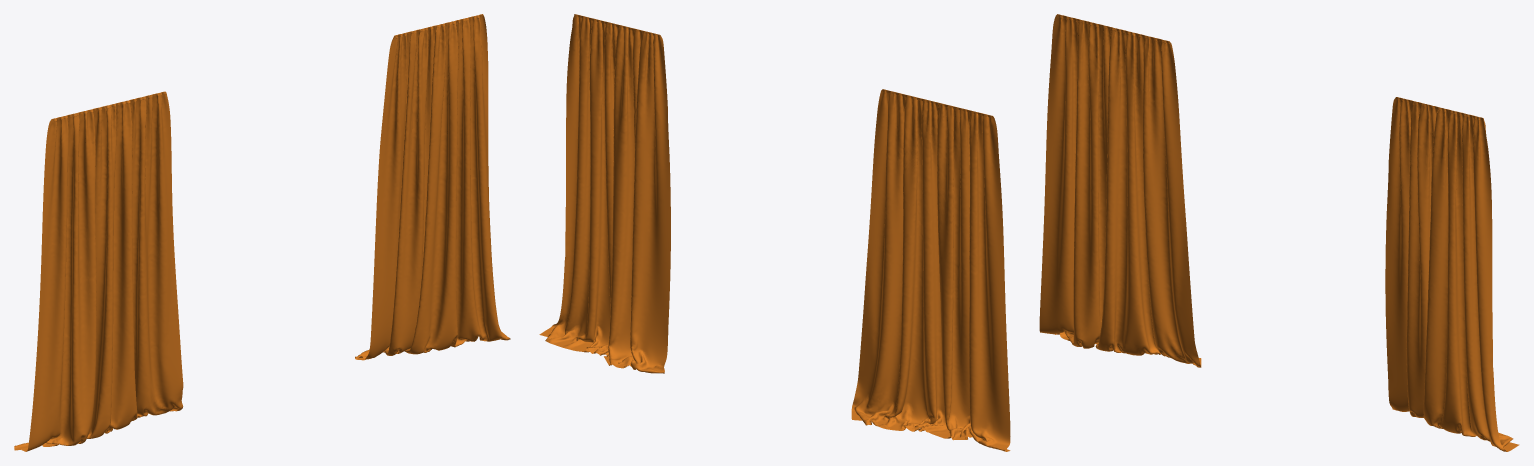
The model's file is Curtain.fbx.
3 renders of one model, left to right at view 1: azimuth 30°, elevation 25°; view 2: azimuth 150°, elevation 25°; view 3: azimuth 330°, elevation 25°, orthographic. The views are drawn at different scales.
Visible parts, largest first — view 1: Modern curtain; view 2: Modern curtain; view 3: Modern curtain.
Part boxes in pixels (x1=…): Modern curtain: x1=14, y1=14, x2=510, y2=451; Modern curtain: x1=539, y1=14, x2=1010, y2=451; Modern curtain: x1=1039, y1=14, x2=1519, y2=451.
Size of the model in its own units: 444 by 289 by 46.83.
